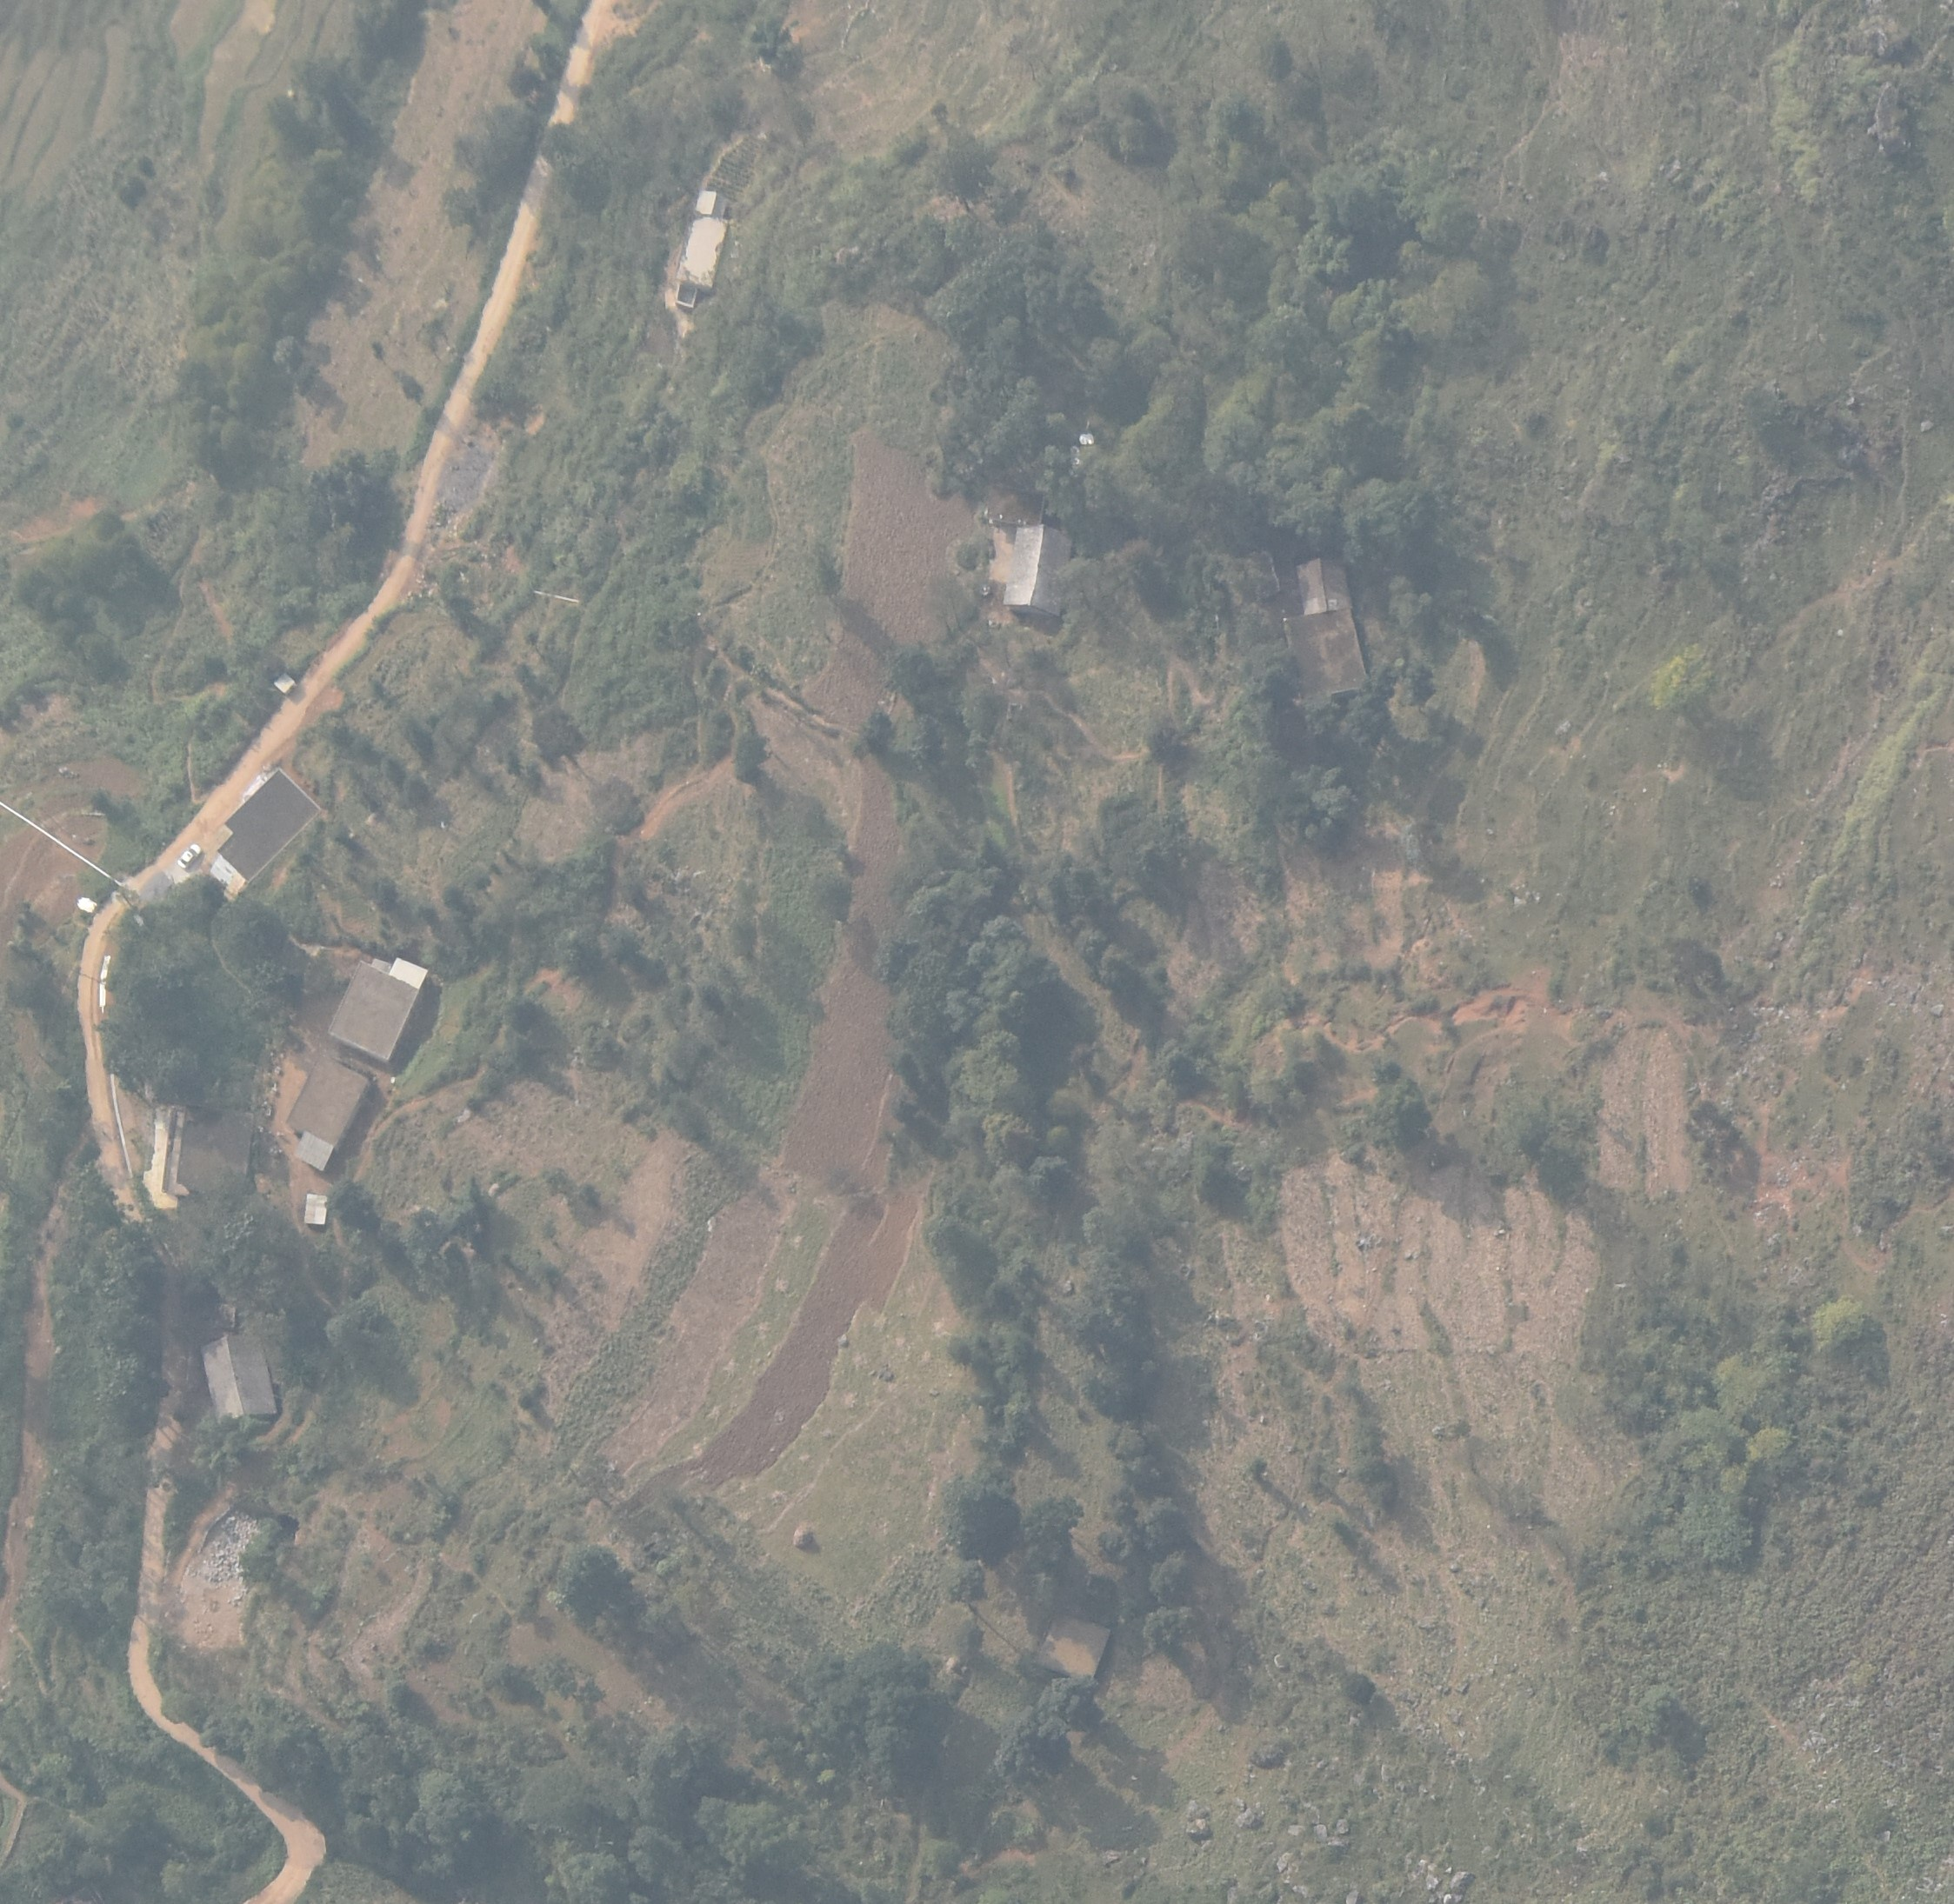building: (217, 769, 324, 901), (328, 954, 417, 1065), (288, 1055, 368, 1149), (1284, 607, 1367, 697), (175, 1104, 256, 1195), (200, 1334, 281, 1417), (1003, 524, 1070, 618), (676, 216, 728, 289), (1295, 557, 1354, 614), (697, 192, 728, 216), (675, 282, 695, 310)
prefabricated-house: (291, 1133, 334, 1173), (390, 956, 429, 991), (303, 1194, 326, 1227)
vehicle: (176, 843, 203, 871)
